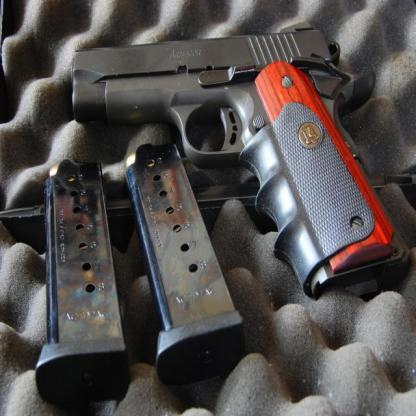weapon: (70, 25, 411, 301)
